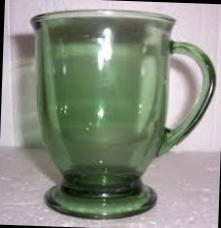glass: (11, 0, 219, 226)
